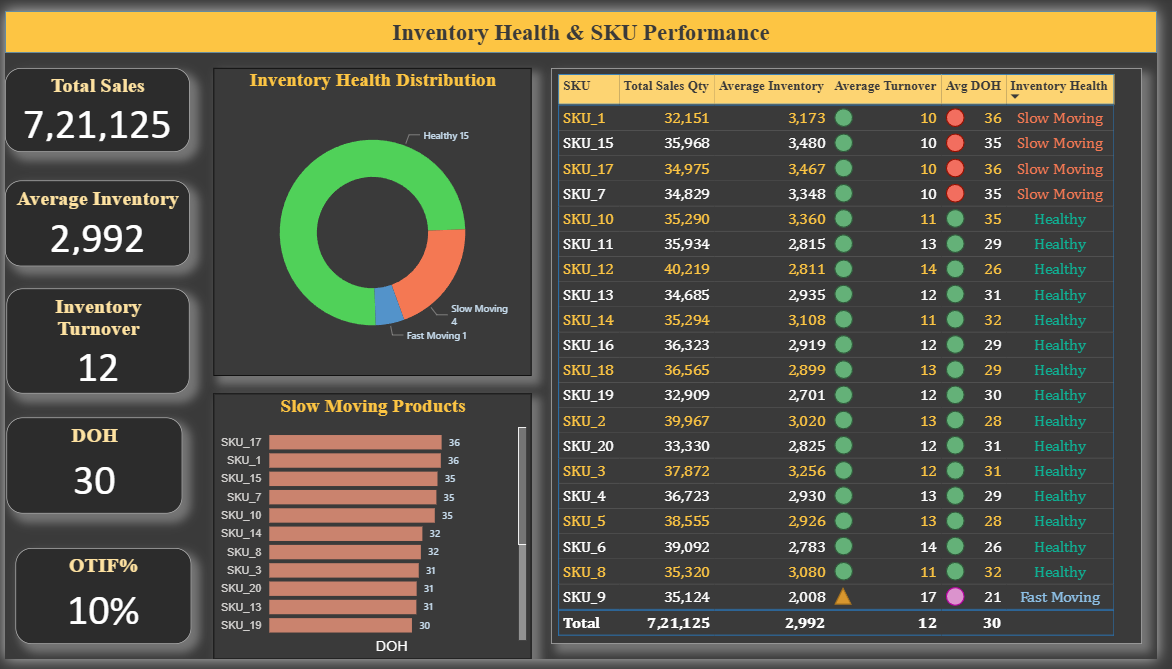

The dashboard page shown, as its layout file describes it:
{"tool":"powerbi","page":{"name":"Product Analysis","canvas":[1280,720],"ordinal":1},"visuals":[{"type":"card","title":"Total Sales","fields":{"Values":["Measures (2).Total Sales Qty"]},"box":[0,63.3,205,93.3],"z":0},{"type":"card","title":"Average Inventory","fields":{"Values":["Measures (2).Average Inventory"]},"box":[0,188.3,205,95],"z":1000},{"type":"card","title":"Inventory Turnover","fields":{"Values":["Measures (2).Average Turnover"]},"box":[1.7,308.3,203.3,116.7],"z":2000},{"type":"card","title":"DOH","fields":{"Values":["Measures (2).Avg DOH"]},"box":[1.7,451.7,195,106.7],"z":3000},{"type":"card","title":"OTIF%","fields":{"Values":["Measures (2).OTIF %"]},"box":[11.7,596.7,195,106.7],"z":4000},{"type":"tableEx","fields":{"Values":["Product_Master.SKU","Measures (2).Total Sales Qty","Measures (2).Average Inventory","Measures (2).Average Turnover","Measures (2).Avg DOH","Product_Master.Inventory Health"]},"box":[606.7,63.3,656.7,640],"z":5000},{"type":"donutChart","title":"Inventory Health Distribution","fields":{"Category":["Product_Master.Inventory Health"],"Y":["Product_Master.SKU Count"]},"box":[231.7,63.3,353.3,341.7],"z":5001},{"type":"clusteredBarChart","title":"Slow Moving Products","fields":{"Category":["Product_Master.SKU"],"Y":["Measures (2).DOH"]},"box":[231.7,425,353.3,295],"z":5002},{"type":"shape","box":[0,0,1280,46.7],"z":5003}]}

Visuals, with their boxes in screenshot pixels (x1, y1, x2, y2), scaled from the page's 1280x720 canvas onto the 1172x669 screenshot:
"Total Sales" card: select_region(0, 59, 188, 146)
"Average Inventory" card: select_region(0, 175, 188, 263)
"Inventory Turnover" card: select_region(2, 286, 188, 395)
"DOH" card: select_region(2, 420, 180, 519)
"OTIF%" card: select_region(11, 554, 189, 654)
tableEx - Product_Master.SKU x Measures (2).Total Sales Qty: select_region(556, 59, 1157, 653)
"Inventory Health Distribution" donutChart: select_region(212, 59, 536, 376)
"Slow Moving Products" clusteredBarChart: select_region(212, 395, 536, 668)
shape: select_region(0, 0, 1171, 43)
